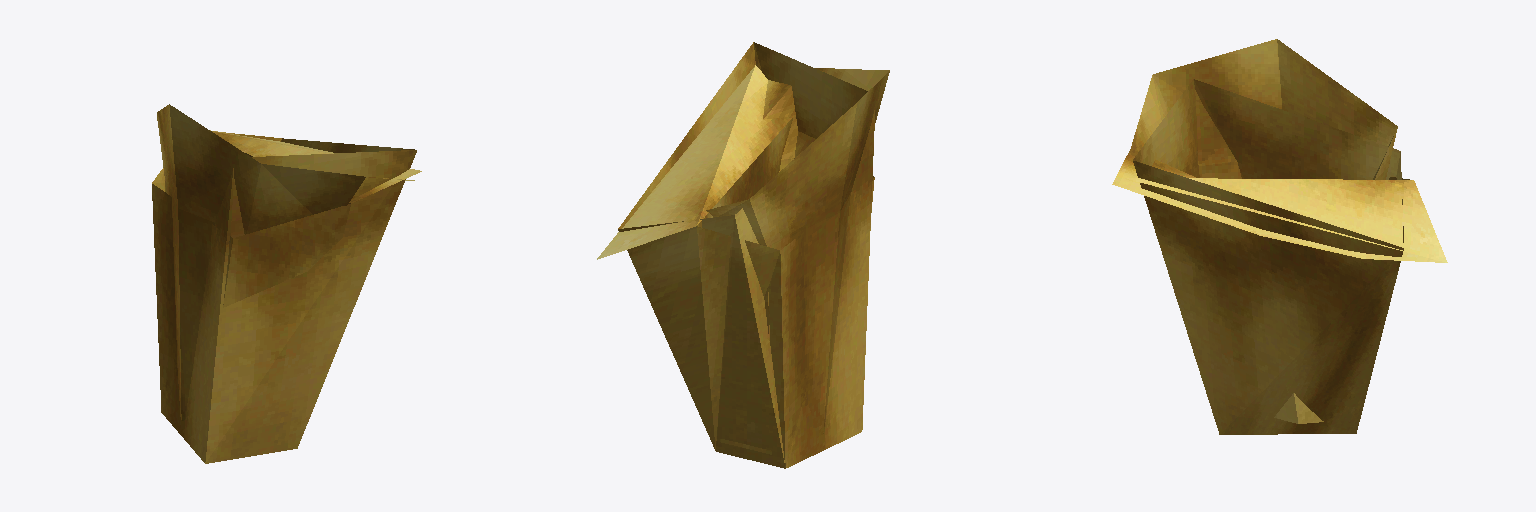
The picture shows the model from 3 angles: view 1: azimuth 30°, elevation 25°; view 2: azimuth 150°, elevation 25°; view 3: azimuth 270°, elevation 25°; orthographic projection.
Visible parts, largest first — view 1: piernaDelanteraDerLeona; view 2: piernaDelanteraDerLeona; view 3: piernaDelanteraDerLeona.
Boxes of the visible parts, box(x1,y1,x2,y2) form: piernaDelanteraDerLeona: box(152, 104, 421, 463); piernaDelanteraDerLeona: box(597, 42, 889, 468); piernaDelanteraDerLeona: box(1112, 39, 1447, 434).
Size of the model in its own units: 0.3858 by 0.7305 by 0.6374.
Materials: 1 (1 with a texture image).